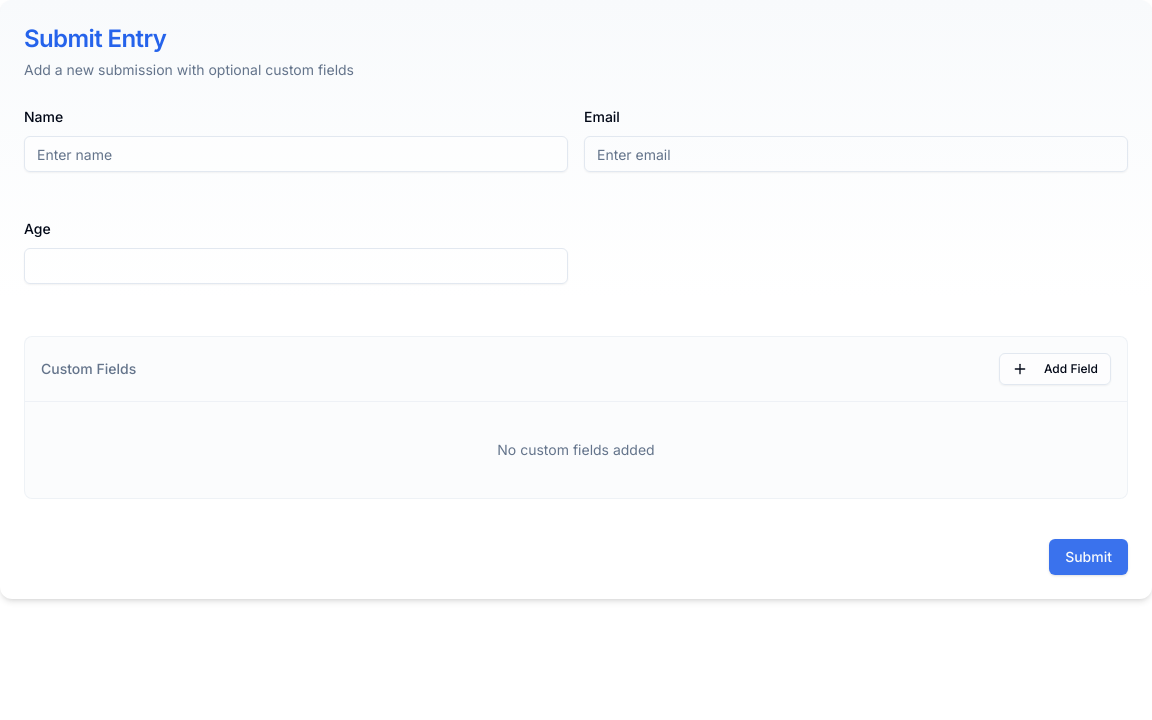
Test: DataForm › displays validation messages for empty submission
Click the button "Submit". click: (1089, 557)
box: [1049, 539, 1128, 575]
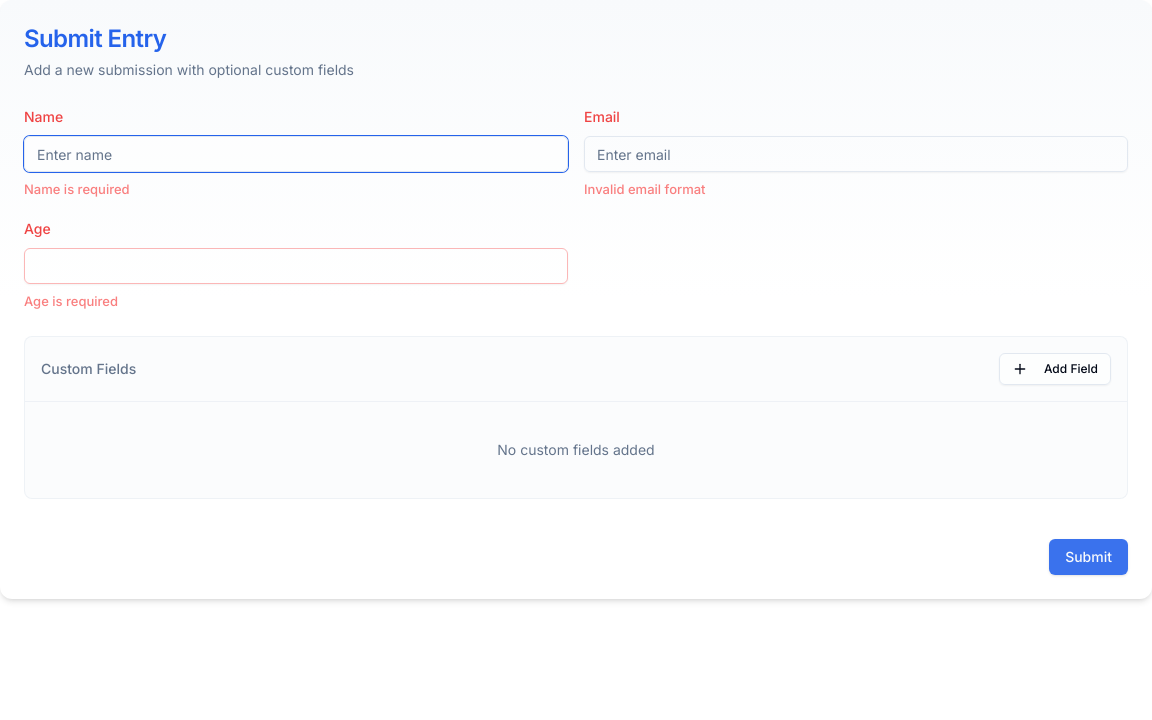
Result: the text "Name is required" is shown at [24, 181, 130, 197]
Result: the text "Invalid email format" is shown at [584, 181, 706, 197]
Result: the text "Age is required" is shown at [24, 293, 118, 309]
